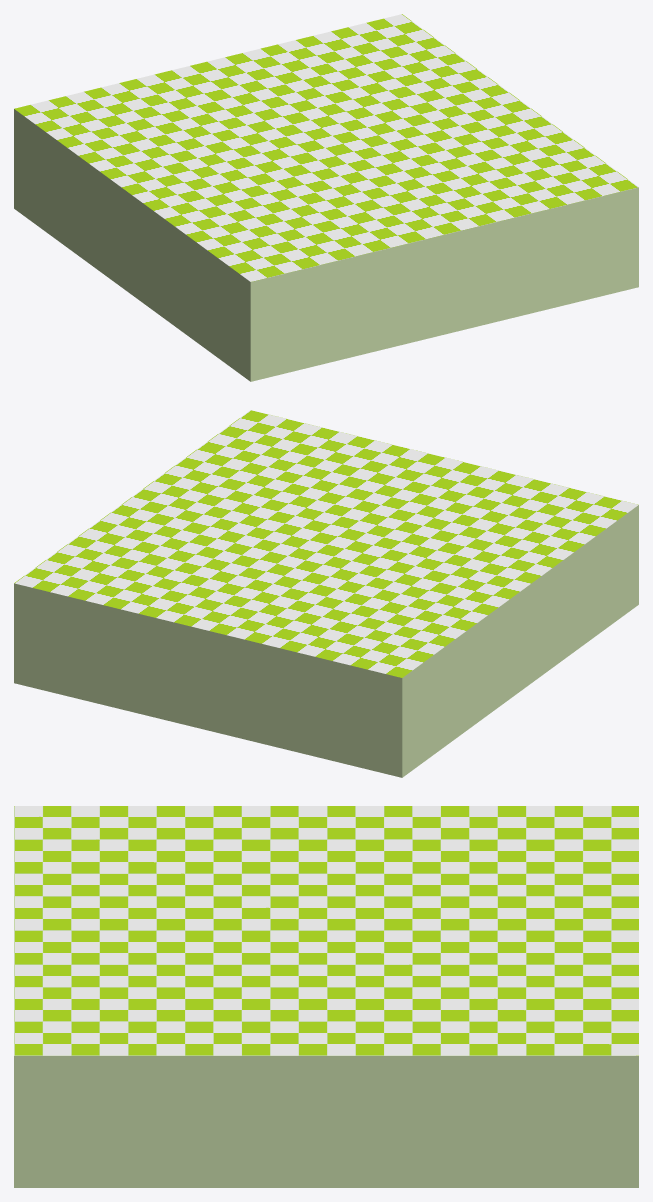
File: testlvl_b.fbx
3 renders of one model, top to bottom at view 1: azimuth 30°, elevation 25°; view 2: azimuth 150°, elevation 25°; view 3: azimuth 270°, elevation 25°, orthographic. The views are drawn at different scales.
Parts seen in each view (by area): view 1: Plane; view 2: Plane; view 3: Plane.
Part boxes in pixels (bbox=[...]): Plane: bbox=[14, 14, 638, 381]; Plane: bbox=[14, 410, 638, 777]; Plane: bbox=[14, 806, 638, 1187].
Size of the model in its own units: 2848 by 700 by 3008.
1 material, 1 textured.
